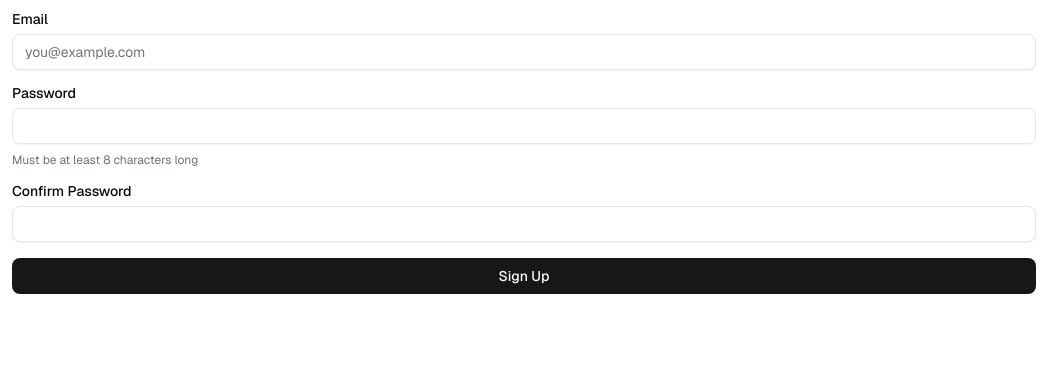
Test: clears password mismatch error on next valid submit
The width and height of the screenshot is (1048, 365).
Note: Trigger mismatch error first
In the password field labelled "Password": (524, 126) x1=12 y1=108 x2=1036 y2=144, type "password123"
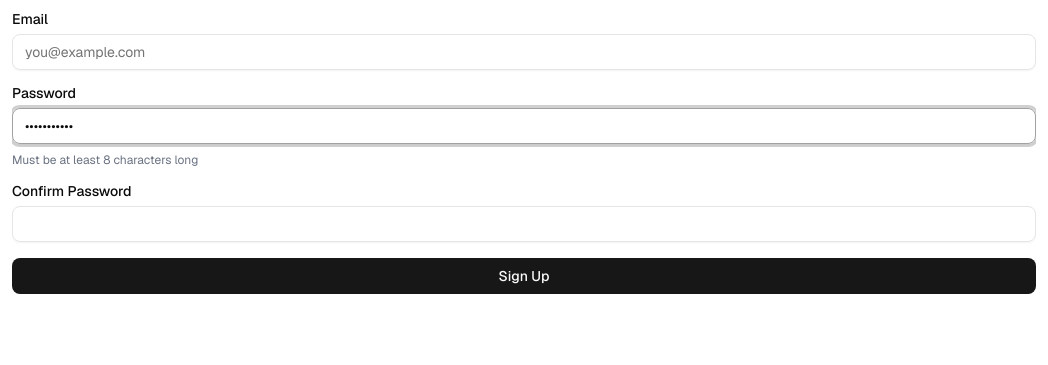
In the password field labelled "Confirm Password": (524, 224) x1=12 y1=206 x2=1036 y2=242, type "different"
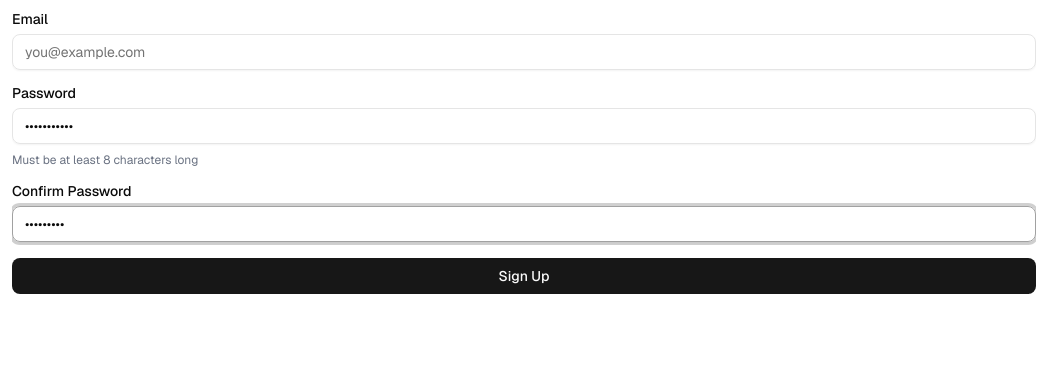
Submit the form "Sign Up"
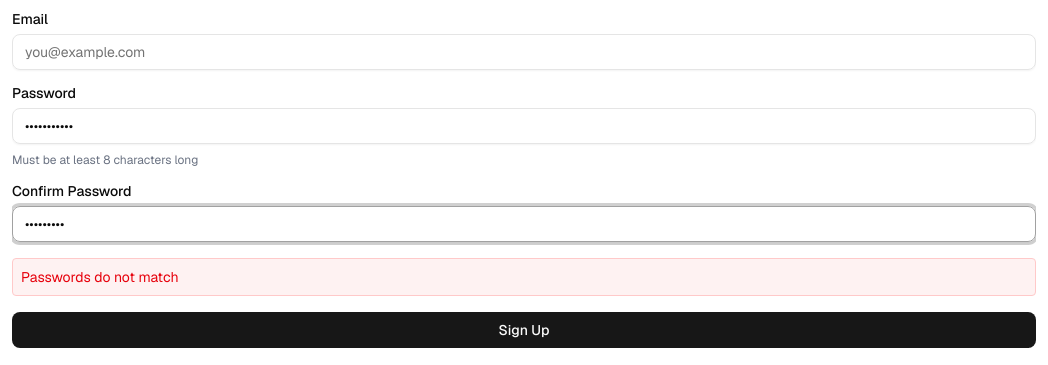
Result: the text "Passwords do not match" is shown at x1=12 y1=258 x2=1036 y2=296
Note: Fix the confirm password and resubmit
In the password field labelled "Confirm Password": (524, 224) x1=12 y1=206 x2=1036 y2=242, type "password123"
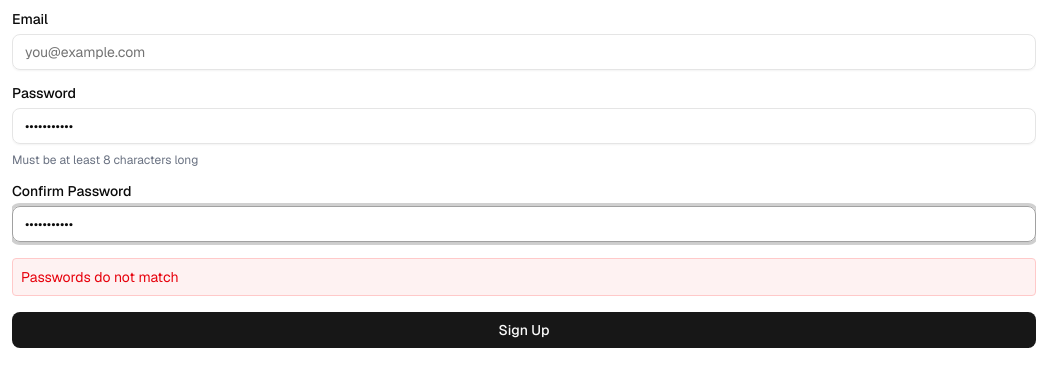
Submit the form named "Sign Up"
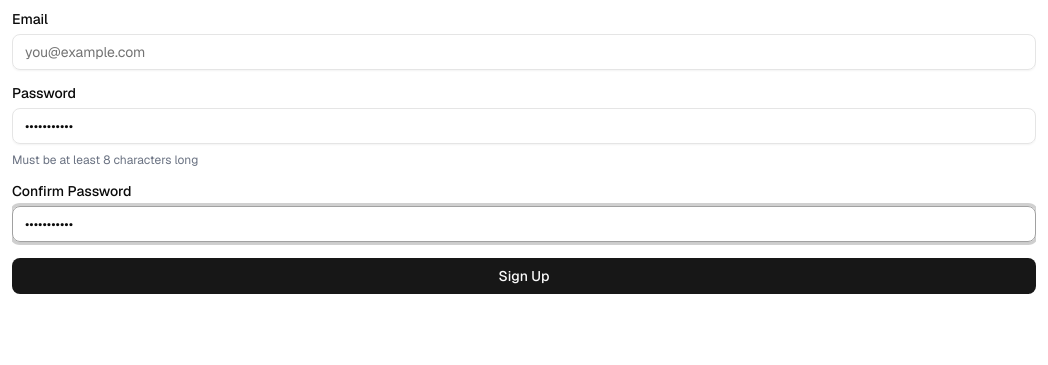
Result: the text "Passwords do not match" is gone
